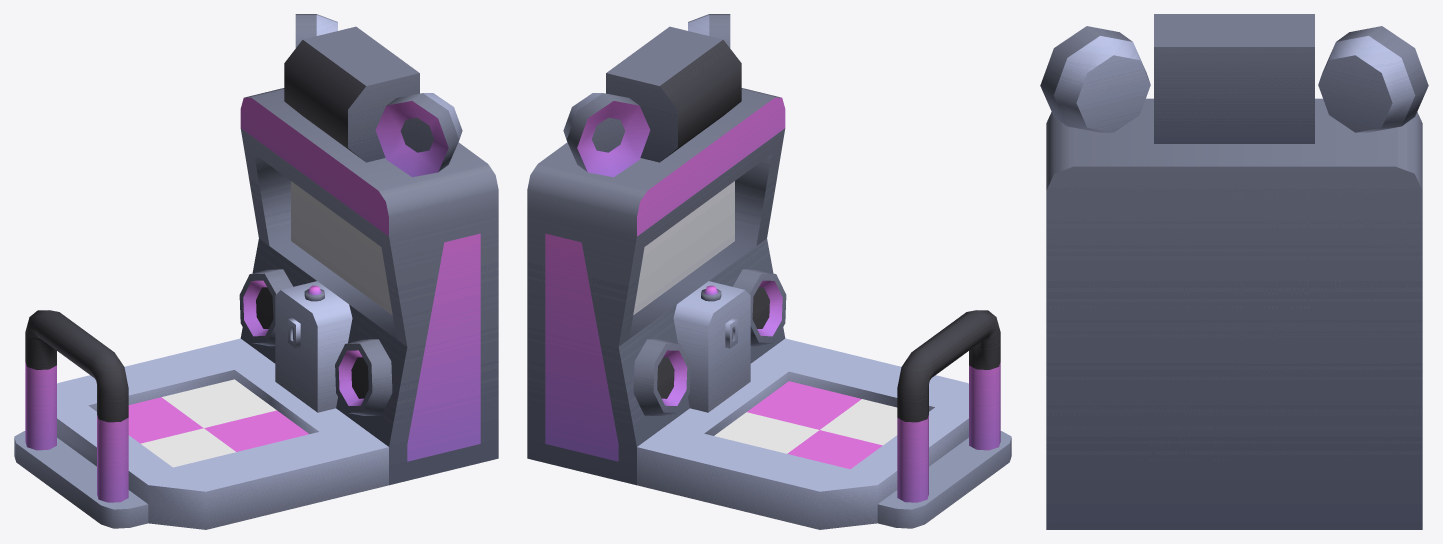
Rendered from dance-machine.001_lev2.glb.
3 renders of one model, left to right at view 1: azimuth 30°, elevation 25°; view 2: azimuth 150°, elevation 25°; view 3: azimuth 270°, elevation 25°, orthographic. The views are drawn at different scales.
Parts seen in each view (by area): view 1: dance-machine.001_lev2; view 2: dance-machine.001_lev2; view 3: dance-machine.001_lev2.
Boxes of the visible parts, box(x1,y1,x2,y2) form: dance-machine.001_lev2: box(14, 14, 498, 529); dance-machine.001_lev2: box(527, 14, 1011, 529); dance-machine.001_lev2: box(1040, 14, 1428, 529).
Size of the model in its own units: 4.02 by 3.81 by 2.92.
1 material, 1 textured.
